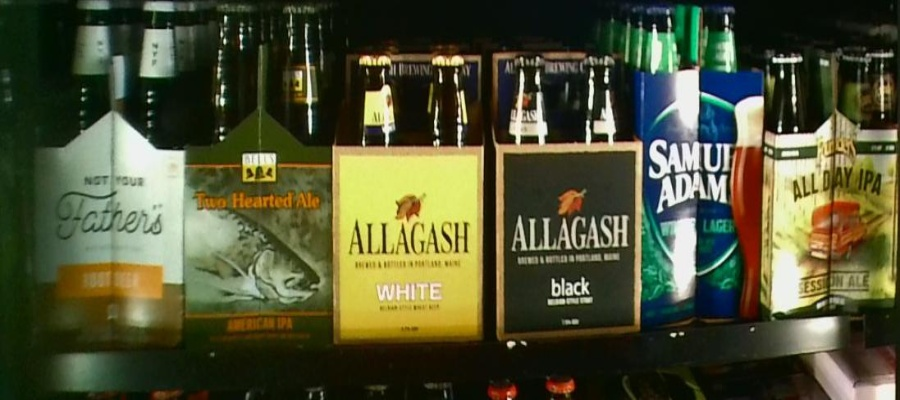bottle: (34, 2, 185, 343), (190, 1, 332, 347), (332, 40, 485, 343), (489, 46, 639, 338), (644, 1, 763, 331), (766, 44, 896, 309)
